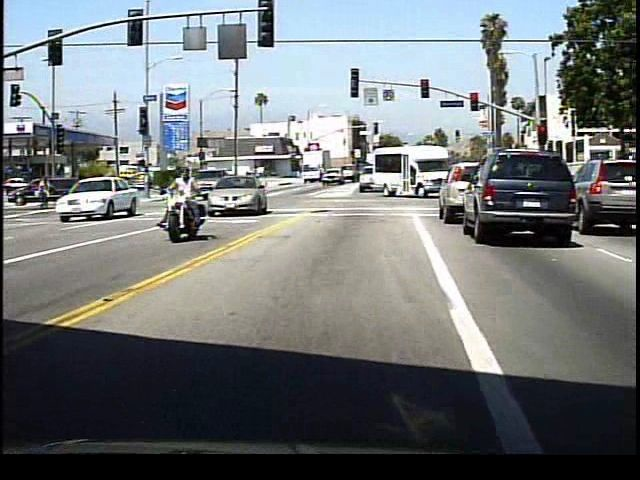person: (167, 166, 212, 241)
